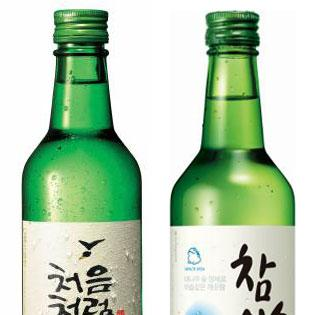soju: (166, 8, 299, 315), (16, 4, 147, 315)
